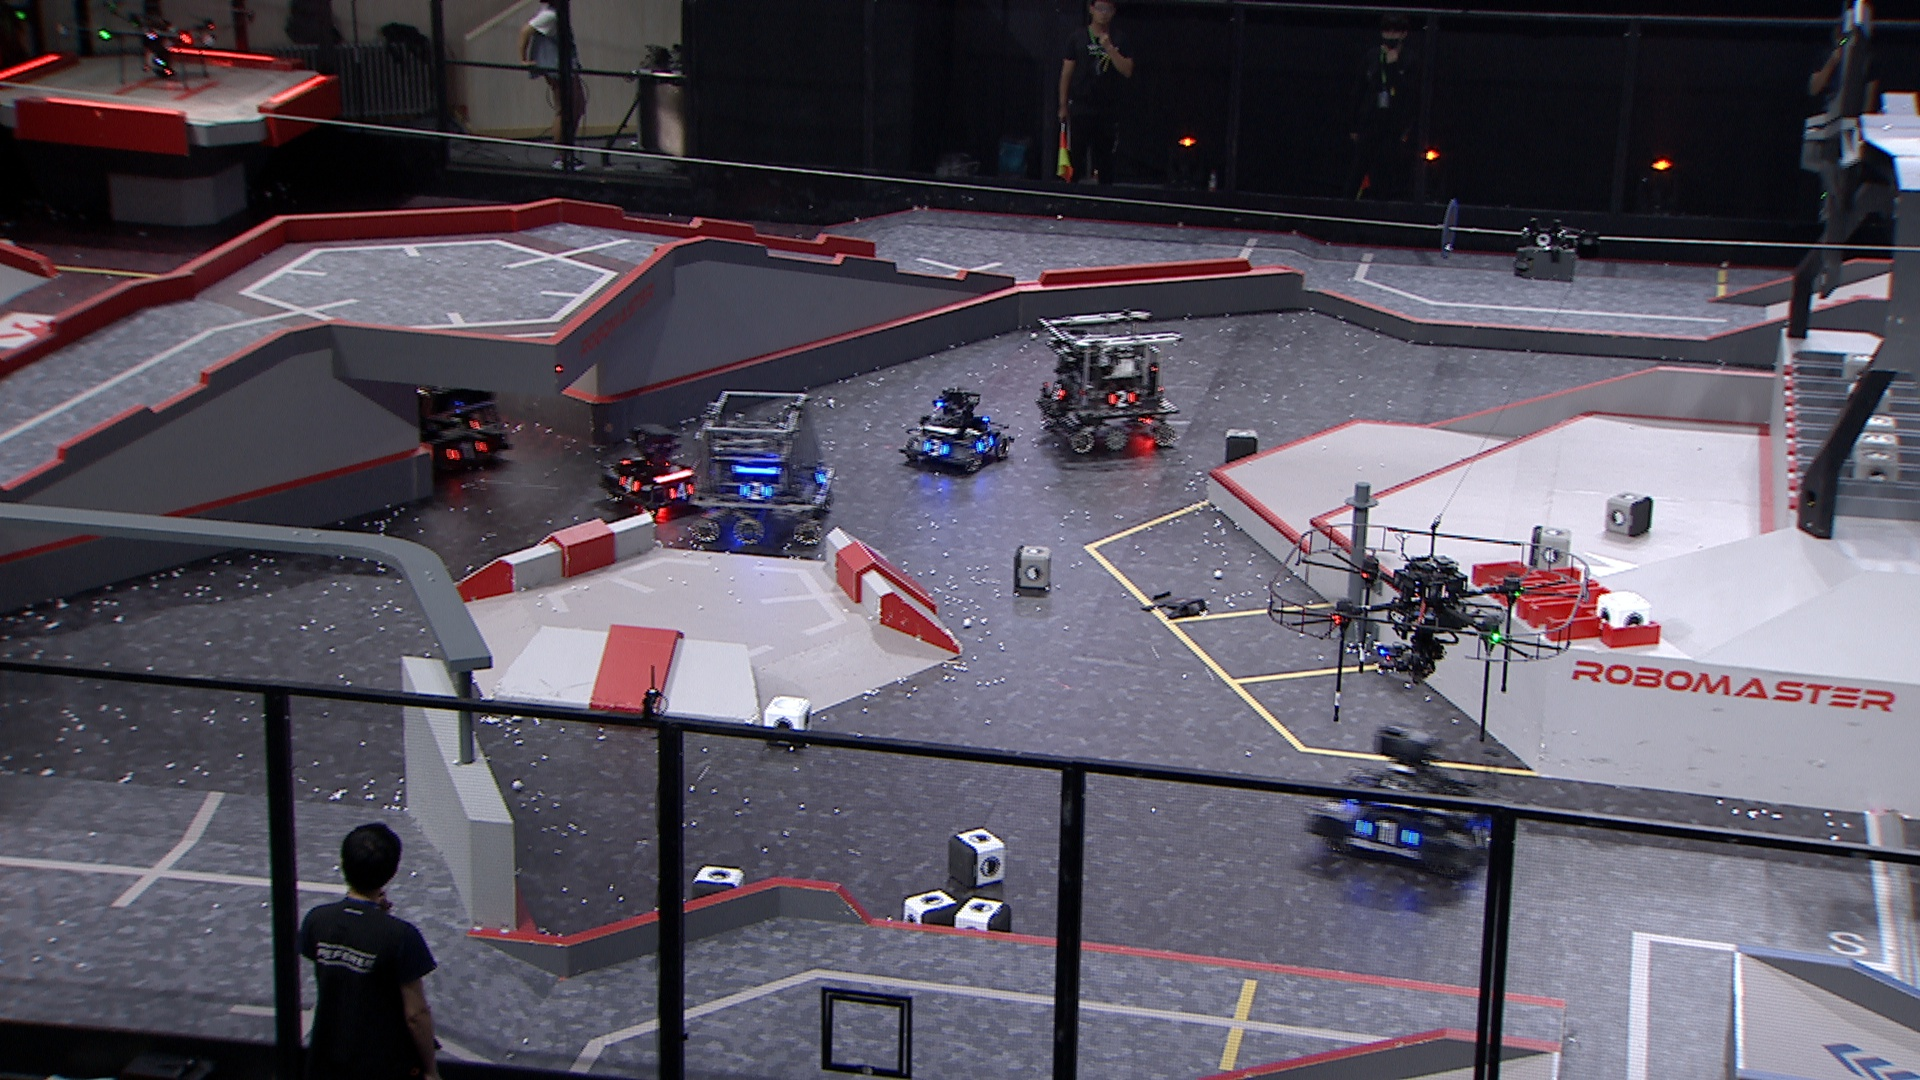armor: (1352, 816, 1422, 853), (443, 438, 489, 467), (1462, 820, 1495, 847), (740, 480, 774, 504), (1105, 386, 1135, 409), (665, 483, 695, 504), (922, 436, 951, 458), (1046, 380, 1067, 404), (615, 475, 640, 495), (975, 434, 994, 456)
car: (1300, 719, 1509, 884), (688, 390, 840, 550), (1036, 309, 1182, 456), (377, 353, 514, 480), (898, 386, 1013, 476), (597, 423, 700, 520)
